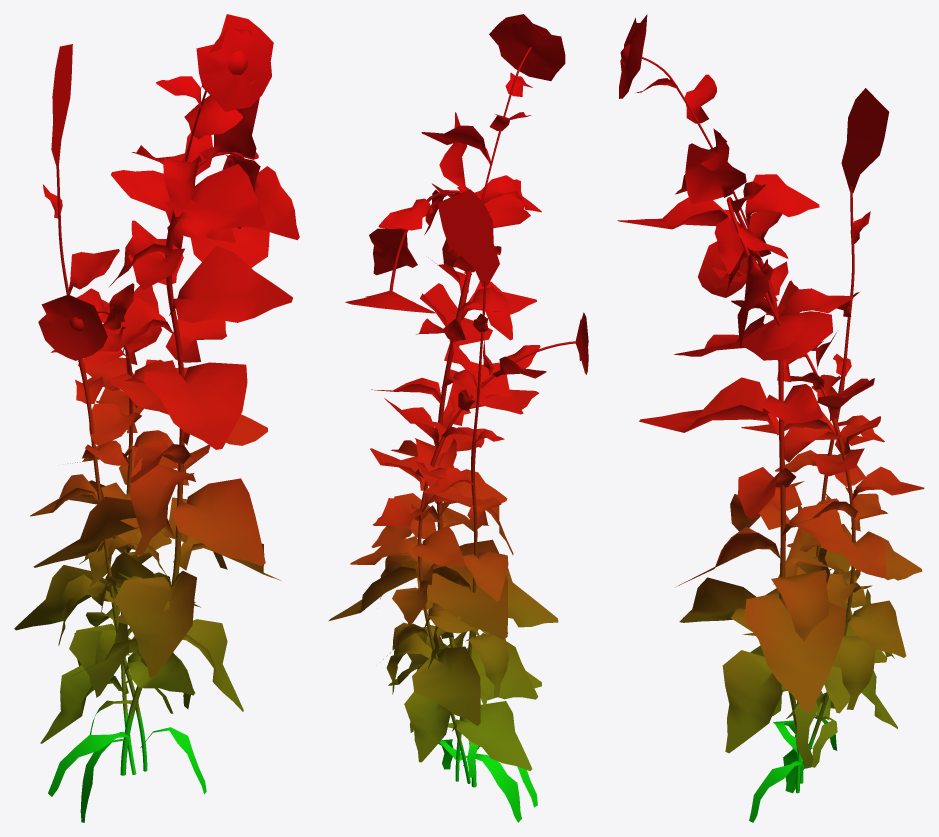
Rendered from Crownbeard_LOD0_Var6_tefoajkr.fbx.
3 renders of one model, left to right at view 1: azimuth 30°, elevation 25°; view 2: azimuth 150°, elevation 25°; view 3: azimuth 270°, elevation 25°, orthographic. The views are drawn at different scales.
Parts seen in each view (by area): view 1: _cfe1_Var6_LOD0; view 2: _cfe1_Var6_LOD0; view 3: _cfe1_Var6_LOD0.
Part boxes in pixels (<box>): _cfe1_Var6_LOD0: <box>14,14,299,822</box>; _cfe1_Var6_LOD0: <box>328,14,588,822</box>; _cfe1_Var6_LOD0: <box>617,14,924,822</box>.
Bounding box in the file's own units: 31.03 × 93.31 × 32.03.
